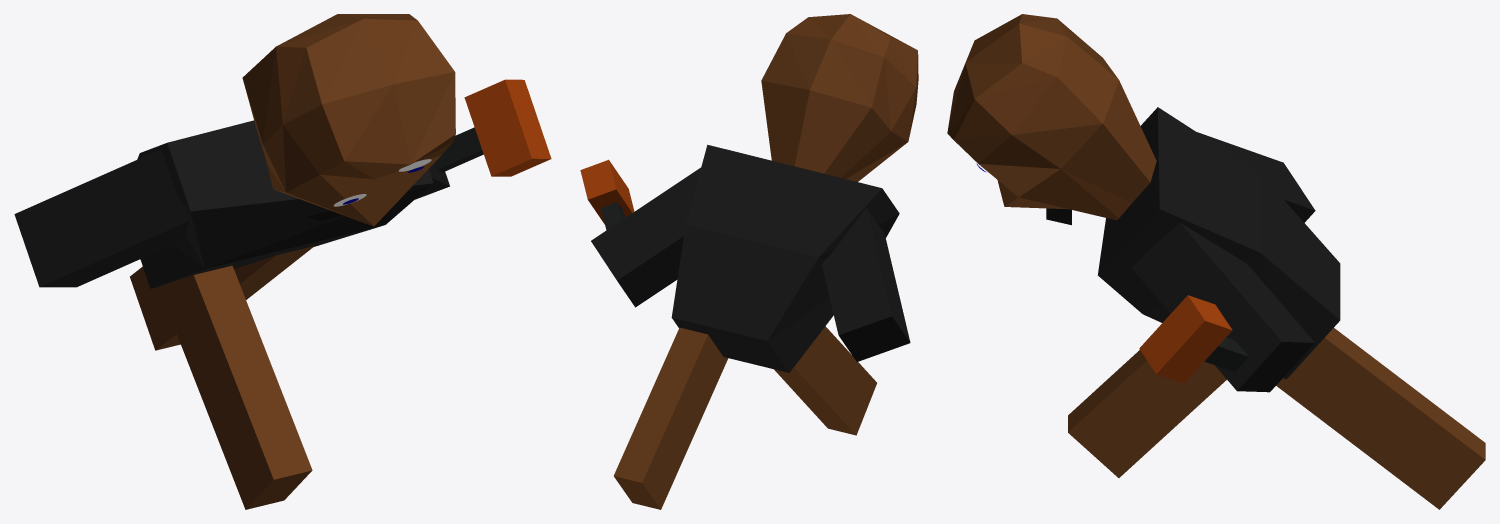
The model's file is servant1f.obj.
3 renders of one model, left to right at view 1: azimuth 30°, elevation 25°; view 2: azimuth 150°, elevation 25°; view 3: azimuth 270°, elevation 25°, orthographic. The views are drawn at different scales.
Parts seen in each view (by area): view 1: Cube, Cube.001, Cube.004, Cube.003, Cube.008, Cube.005, Cube.007; view 2: Cube.001, Cube, Cube.005, Cube.003, Cube.002, Cube.004, Cube.008, Cube.007; view 3: Cube, Cube.001, Cube.005, Cube.002, Cube.004, Cube.008, Cube.003, Cube.007.
Boxes of the visible parts, box(x1,y1,x2,y2) form: Cube: box(242, 14, 455, 226); Cube.001: box(137, 120, 433, 288); Cube.004: box(158, 265, 312, 509); Cube.003: box(14, 149, 189, 287); Cube.008: box(464, 79, 551, 176); Cube.005: box(130, 246, 314, 350); Cube.007: box(434, 127, 483, 172); Cube.001: box(671, 144, 899, 372); Cube: box(761, 14, 918, 181); Cube.005: box(614, 327, 728, 509); Cube.003: box(822, 208, 910, 361); Cube.002: box(591, 167, 700, 307); Cube.004: box(774, 326, 876, 435); Cube.008: box(580, 159, 634, 224); Cube.007: box(601, 202, 624, 230); Cube: box(947, 14, 1156, 220); Cube.001: box(1097, 107, 1340, 379); Cube.005: box(1276, 328, 1485, 509); Cube.002: box(1132, 223, 1314, 392); Cube.004: box(1068, 350, 1226, 477); Cube.008: box(1139, 295, 1232, 383); Cube.003: box(1197, 132, 1315, 222); Cube.007: box(1204, 337, 1248, 371).
Size of the model in its own units: 4.16 by 4.4 by 4.61.
